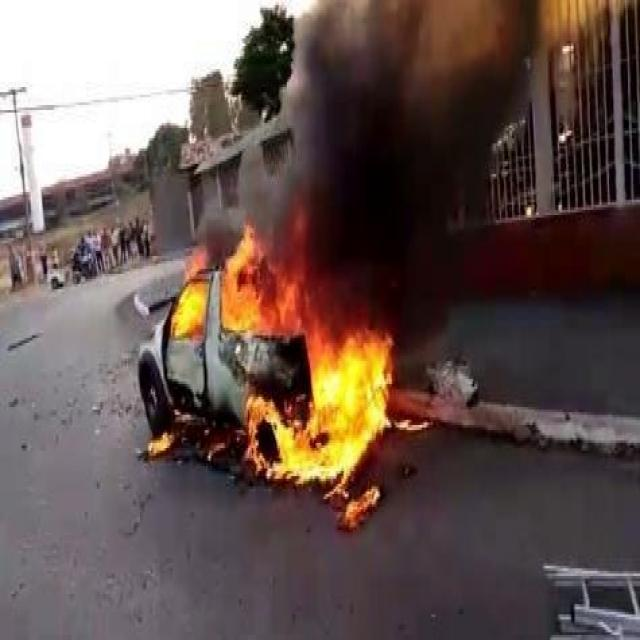Fire: (172, 258, 402, 498), (145, 423, 177, 463)
Smoke: (269, 3, 538, 316)
